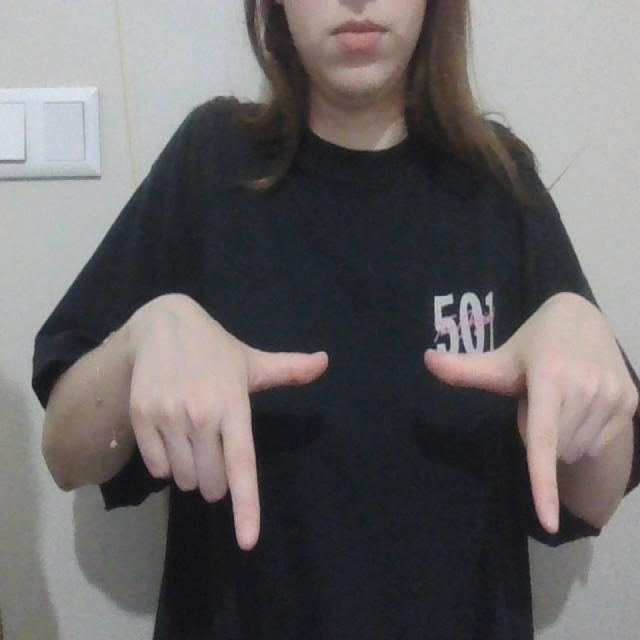Nerede: (188, 334, 574, 556)
